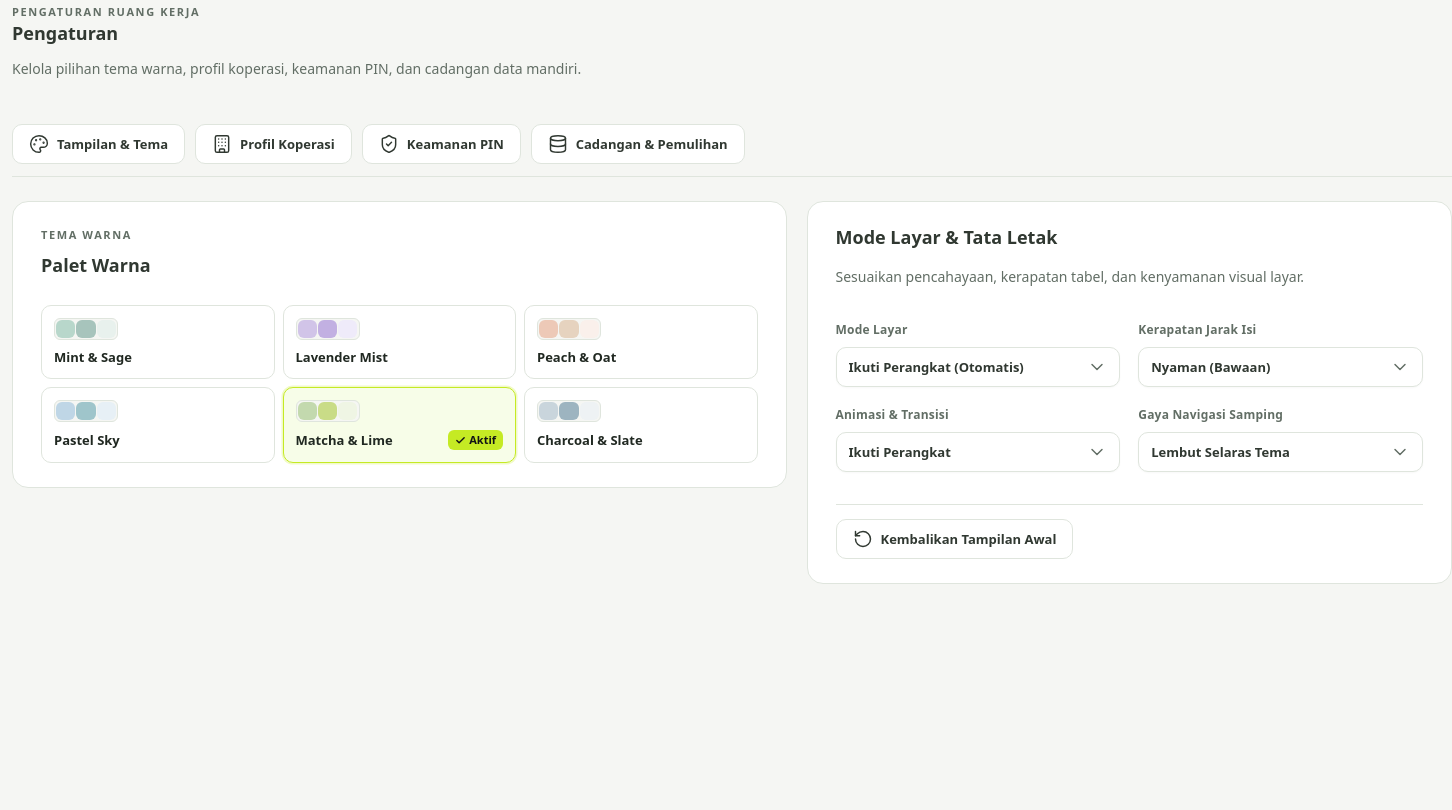
Test: profil kosong tidak menampilkan identitas koperasi yang dikarang
Click the tab "Profil Koperasi". click: (273, 144)
box: [195, 124, 352, 164]
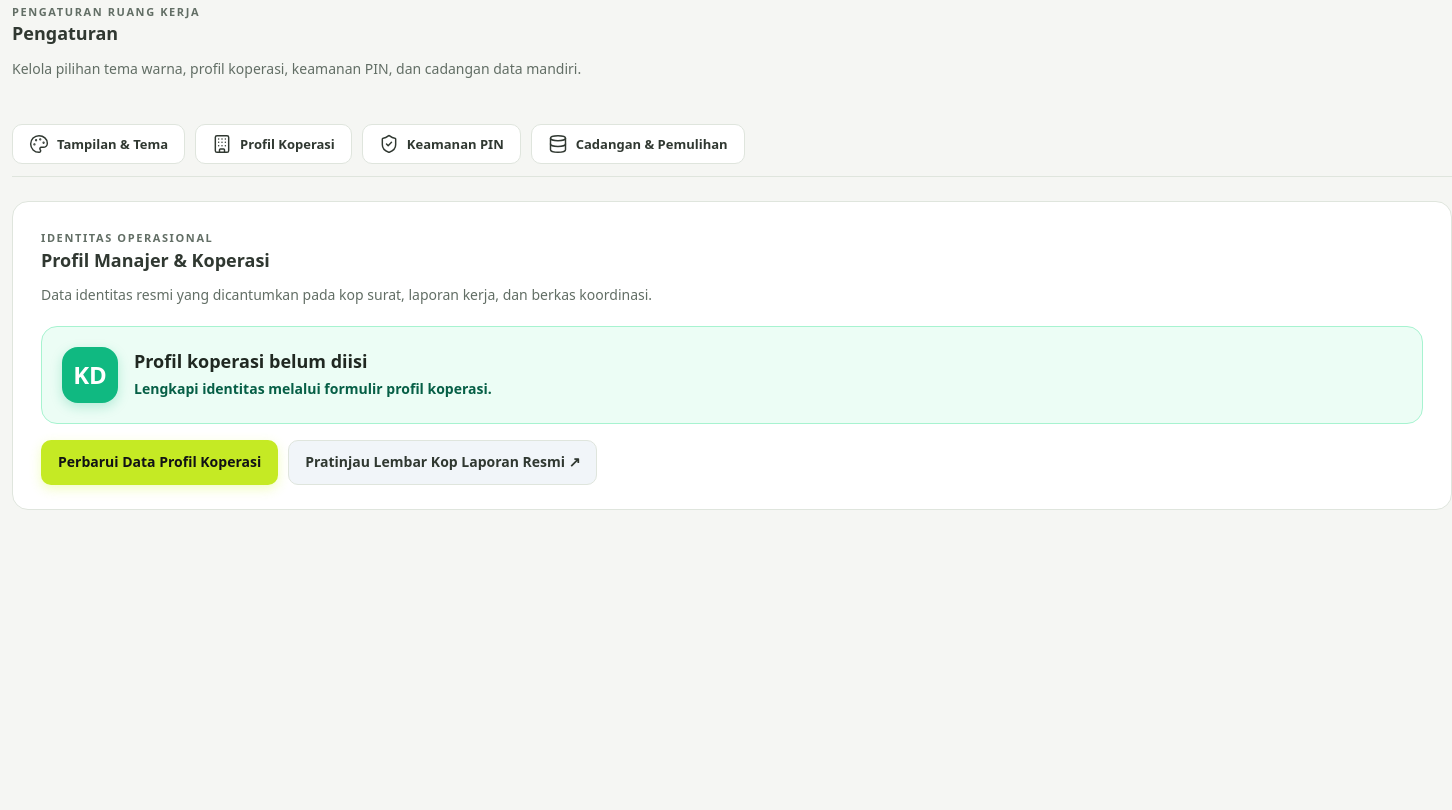
expect the heading "Profil koperasi belum diisi" is shown: met, box [134, 350, 368, 374]
